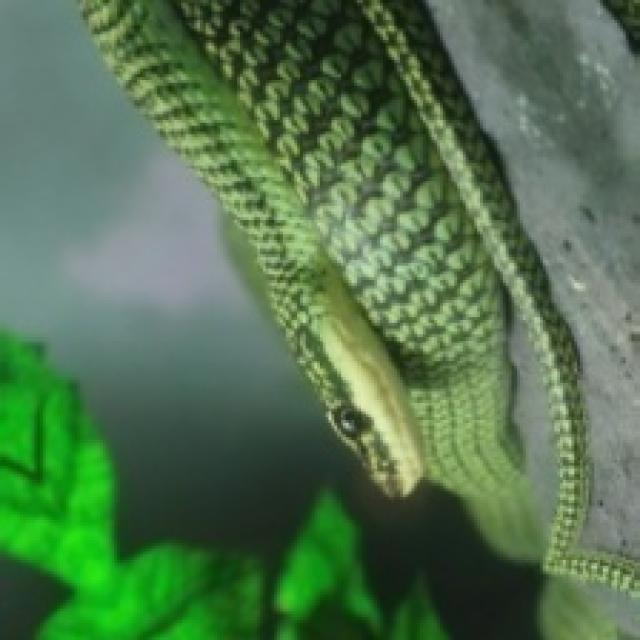paradise tree snake: (83, 0, 637, 591)
